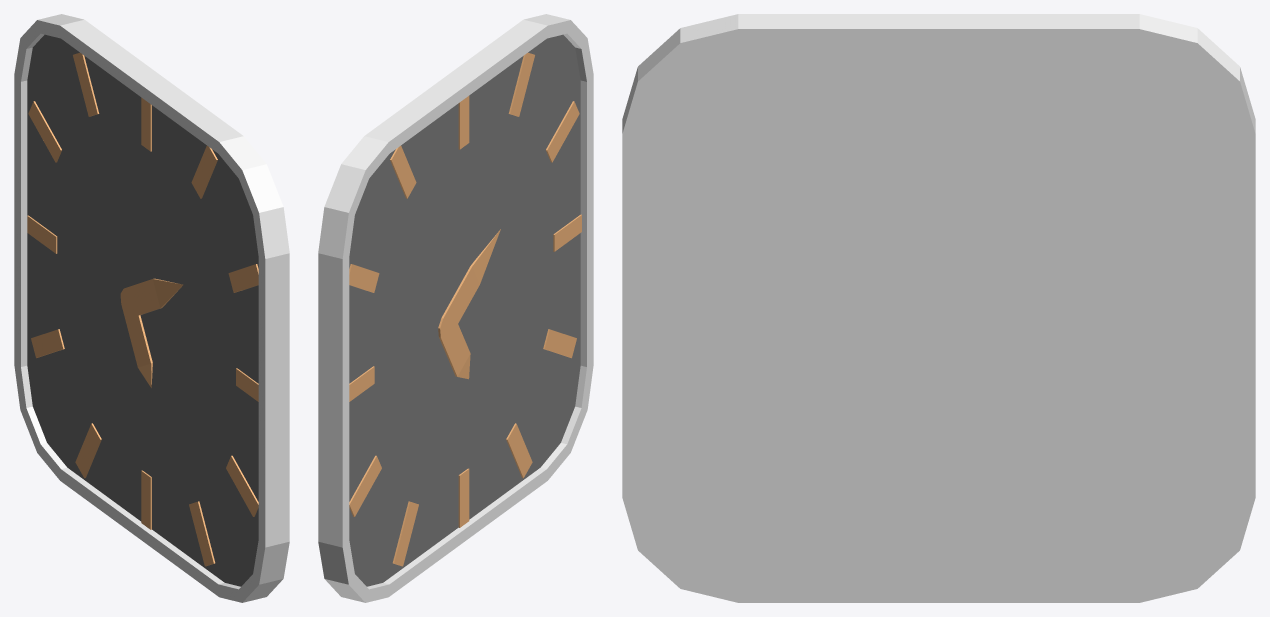
The model's file is Clock_6.fbx.
The picture shows the model from 3 angles, left to right: view 1: azimuth 30°, elevation 25°; view 2: azimuth 150°, elevation 25°; view 3: azimuth 270°, elevation 25°; orthographic projection. The views are drawn at different scales.
Visible parts, largest first — view 1: Clock_6; view 2: Clock_6; view 3: Clock_6.
Boxes of the visible parts, bbox=[...] form: Clock_6: bbox=[14, 14, 289, 602]; Clock_6: bbox=[318, 14, 593, 602]; Clock_6: bbox=[622, 14, 1255, 602].
Bounding box in the file's own units: 0.0246 × 0.4366 × 0.4366.
